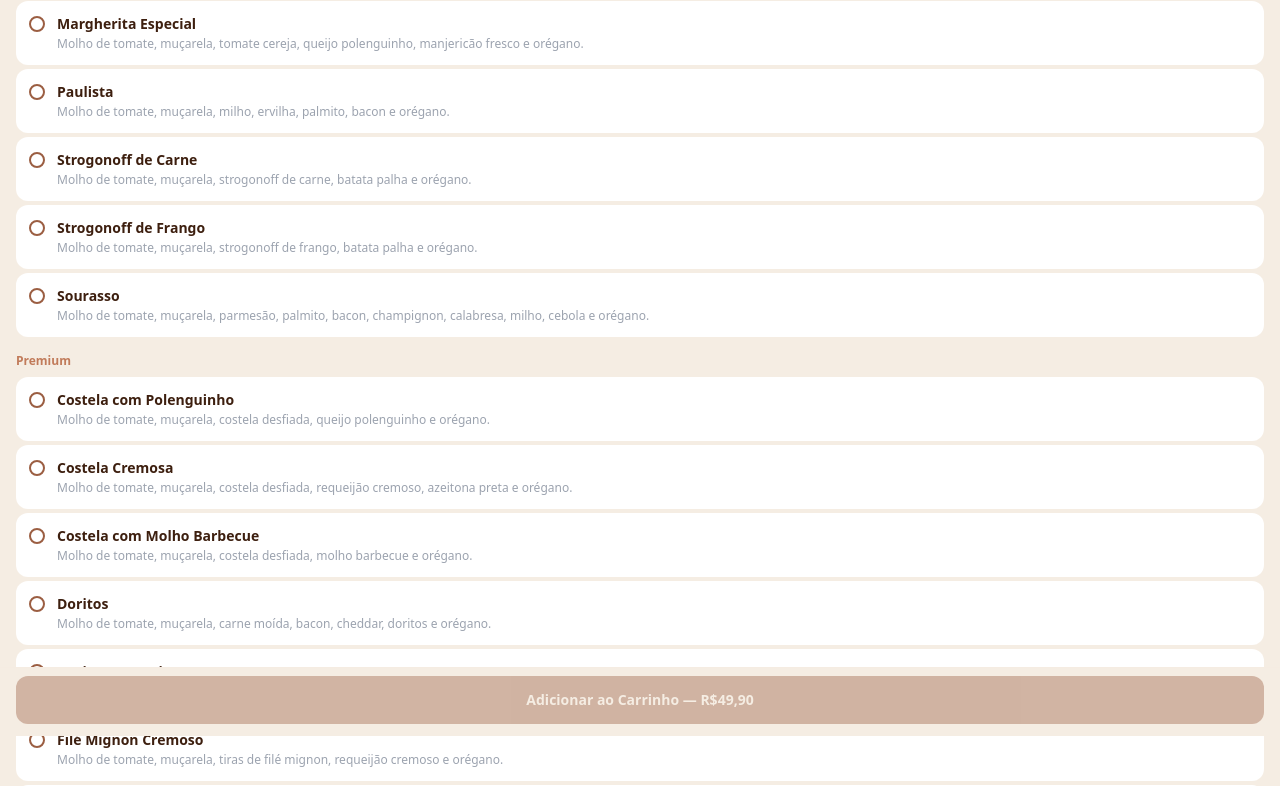
Test: MonteSuaPizzaBuilder › price updates to most expensive category when a Premium flavor is selected
(page scrolled)
Expected: the button "Adicionar ao Carrinho — R$49,90" is shown, x1=16 y1=676 x2=1264 y2=724
Note: Select a Premium flavor — "Costela com Polenguinho" is Premium
Click the text "Costela com Polenguinho" at (146, 400), box x1=57 y1=390 x2=234 y2=409
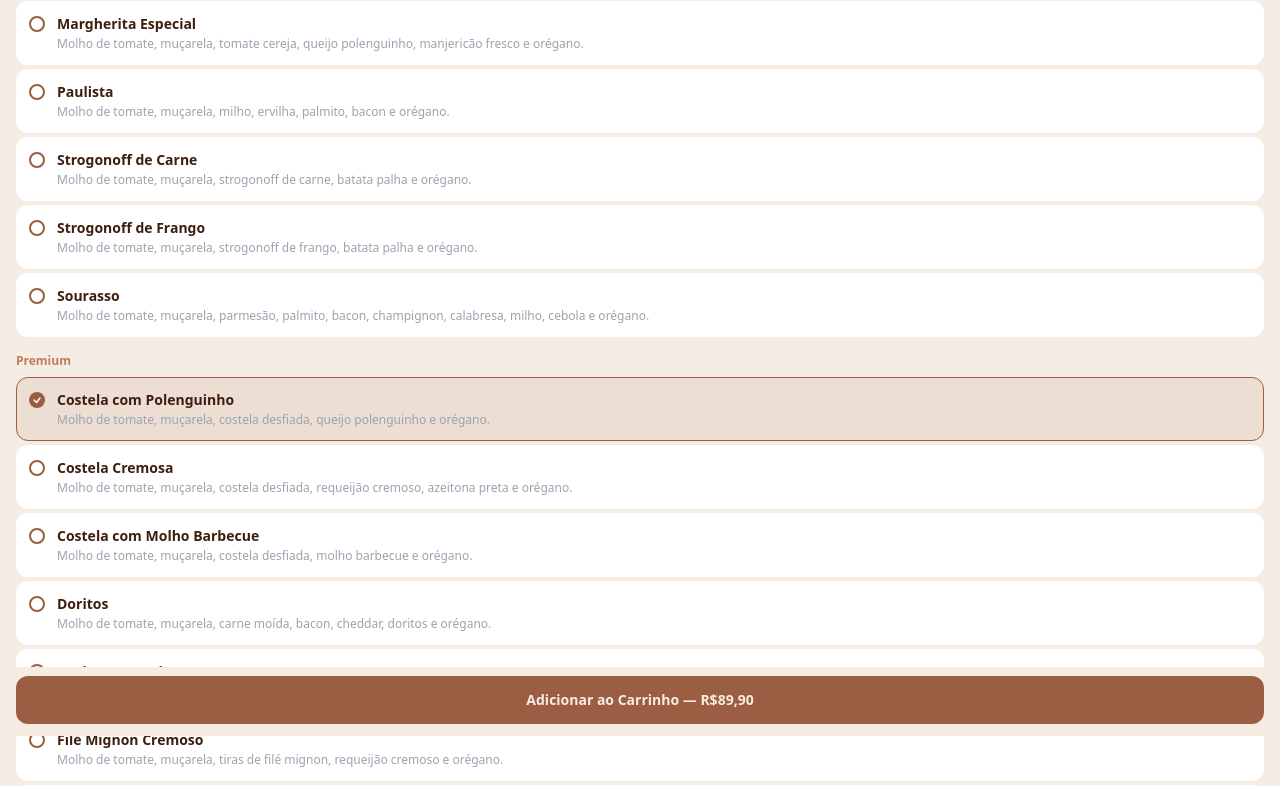
Result: the button "Adicionar ao Carrinho — R$89,90" is shown at x1=16 y1=676 x2=1264 y2=724
